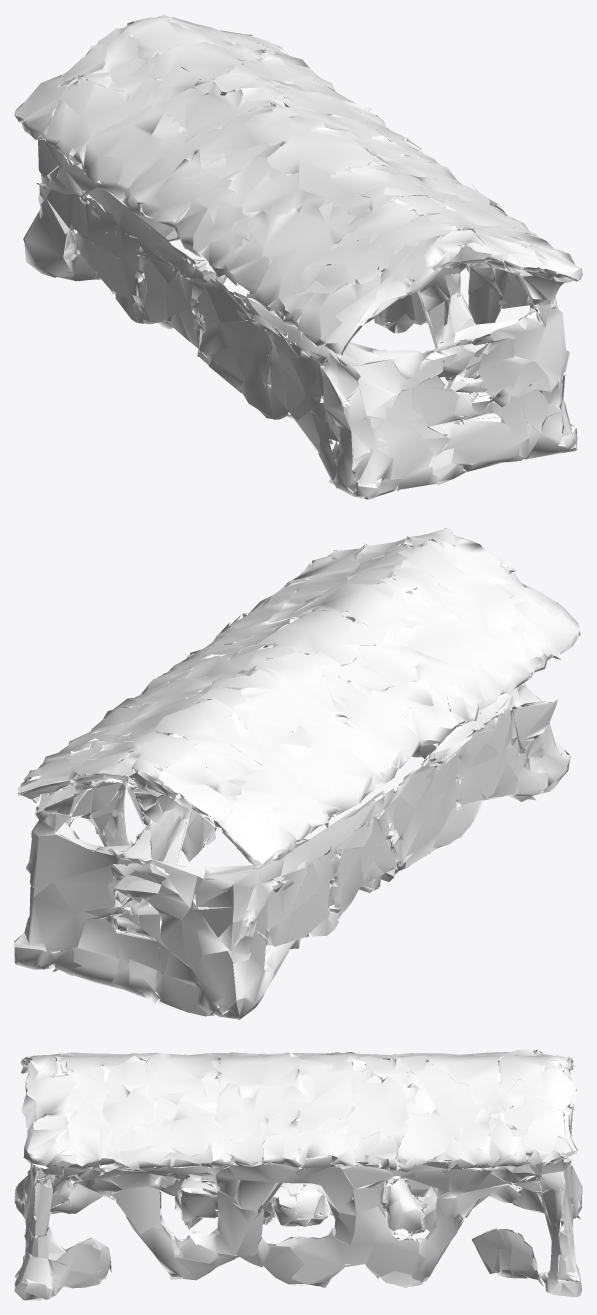
File: stable_hay_lo.glb
3 views of the same model, one above another, from view 1: azimuth 30°, elevation 25°; view 2: azimuth 150°, elevation 25°; view 3: azimuth 270°, elevation 25° (orthographic). The views are drawn at different scales.
Visible parts, largest first — view 1: output_unwrapped; view 2: output_unwrapped; view 3: output_unwrapped.
Boxes of the visible parts, left/top/right/bottom form: output_unwrapped: left=14, top=14, right=582, bottom=499; output_unwrapped: left=14, top=528, right=581, bottom=1019; output_unwrapped: left=14, top=1048, right=582, bottom=1300.
Size of the model in its own units: 6.52 by 5.59 by 14.19.
1 material, 1 textured.
